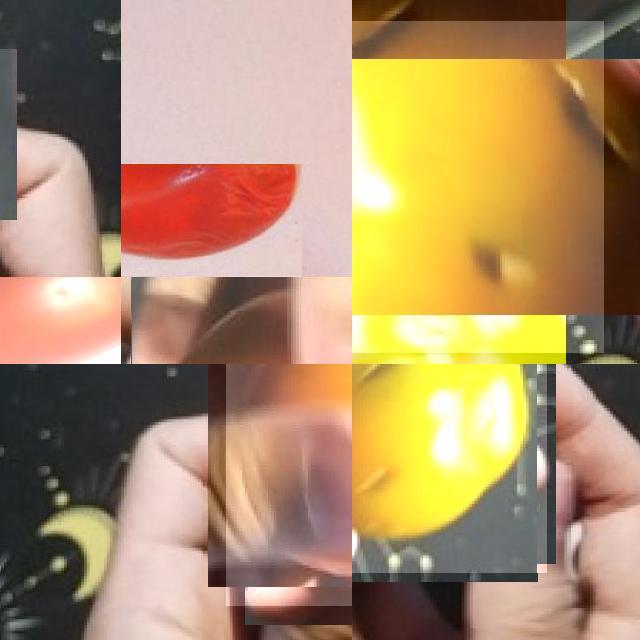Fresh Tomato: (0, 277, 121, 364)
Rotten Tomato: (352, 21, 604, 353), (352, 364, 547, 573), (226, 364, 352, 606), (121, 164, 302, 277), (131, 277, 352, 364)
